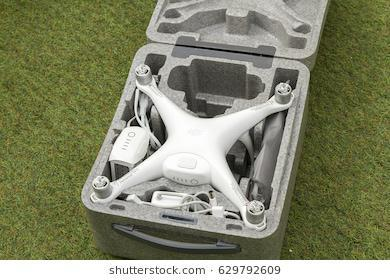drone: (82, 54, 306, 240)
